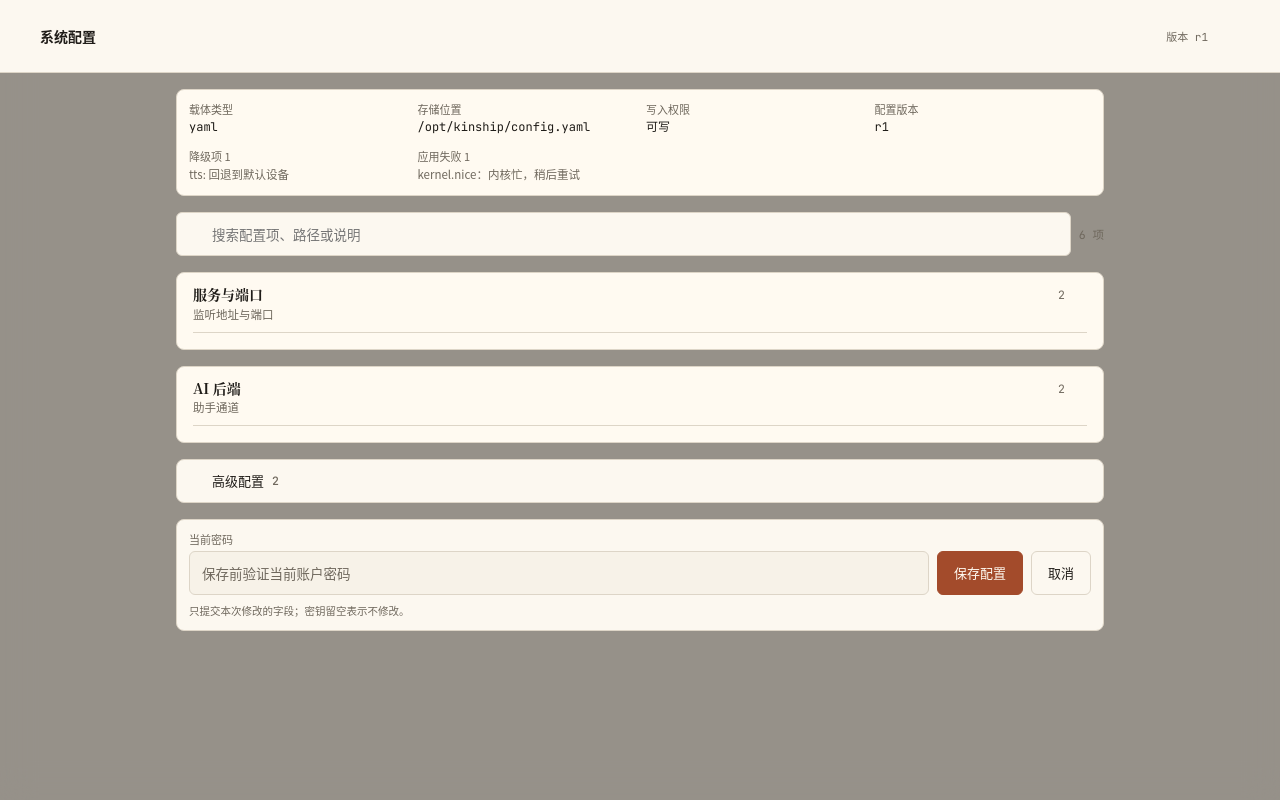
Test: SystemConfigEditor › renders core groups first and folds advanced fields until expanded
The image size is (1280, 800).
Click the button "高级配置 2". click: (238, 481)
box: [176,459,1104,503]
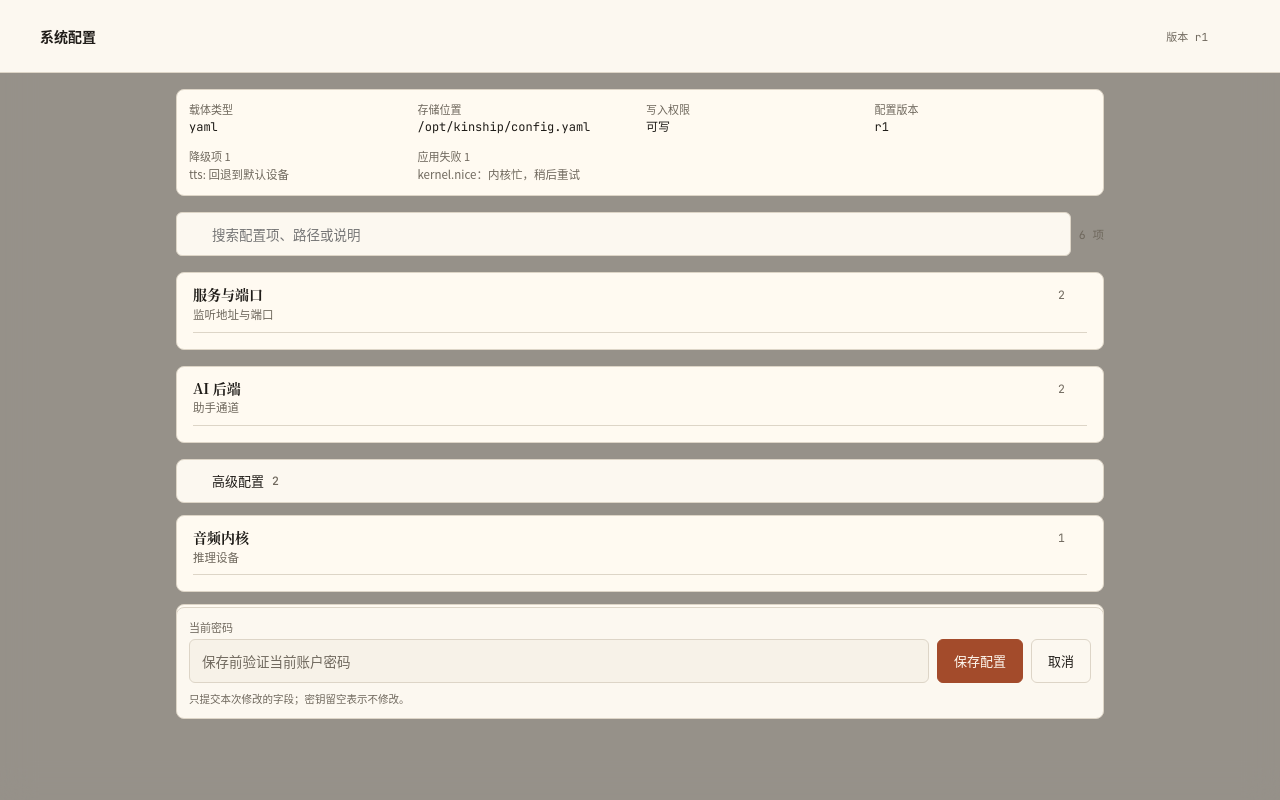
Now the element showing "音频内核 1 推理设备 启动器 1 launcher.py 使用的命令" is shown, box [176,515,1104,681]
Now the element showing "音频内核 1 推理设备" is shown, box [176,515,1104,592]
